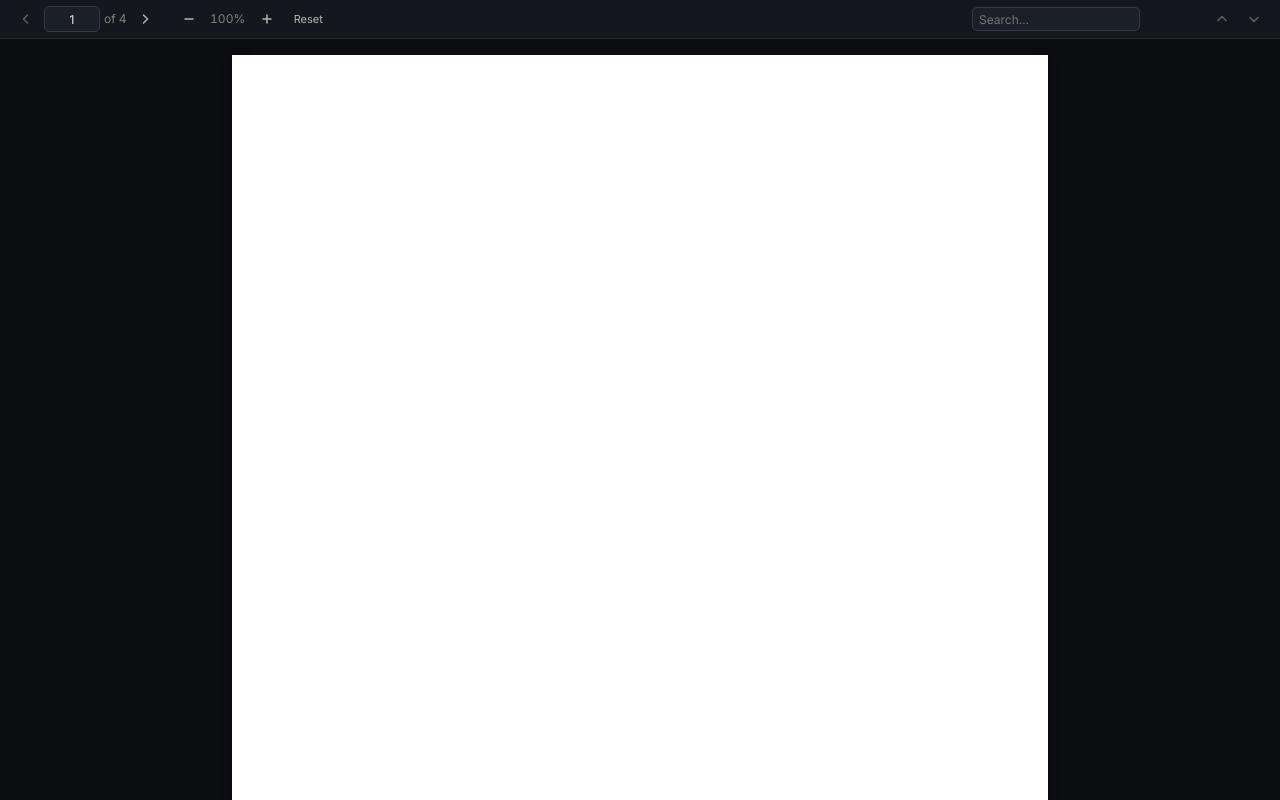
Test: PDV-FR-XMRL: text search › PDV-FR-XMRL: shows No matches when the text is not in the PDF
Type "zebra" into the search field named "Search text" at (1056, 19), box [972, 7, 1140, 31]
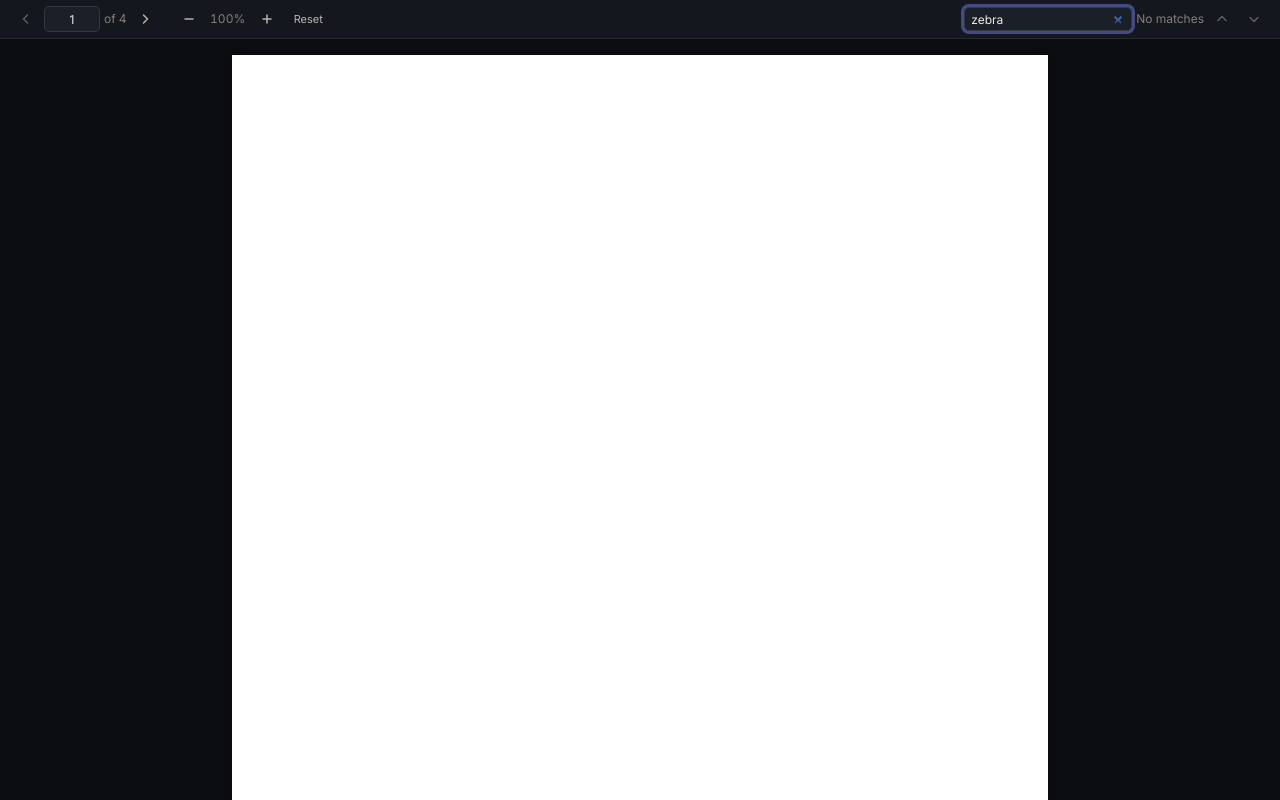
expect the button named "Next match" is disabled: met, box [1240, 7, 1268, 31]
expect the text "No matches" is shown: met, box [1136, 10, 1204, 28]
